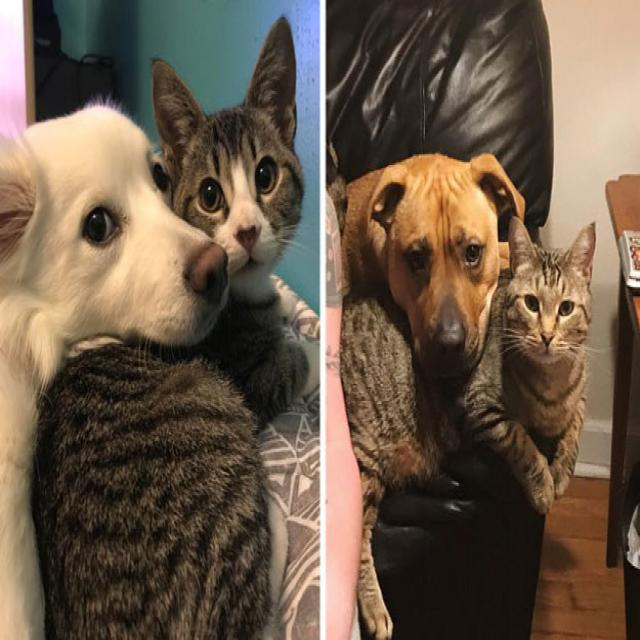cat: (338, 244, 620, 526), (136, 30, 313, 289)
dog: (0, 100, 229, 377), (335, 153, 506, 380)
